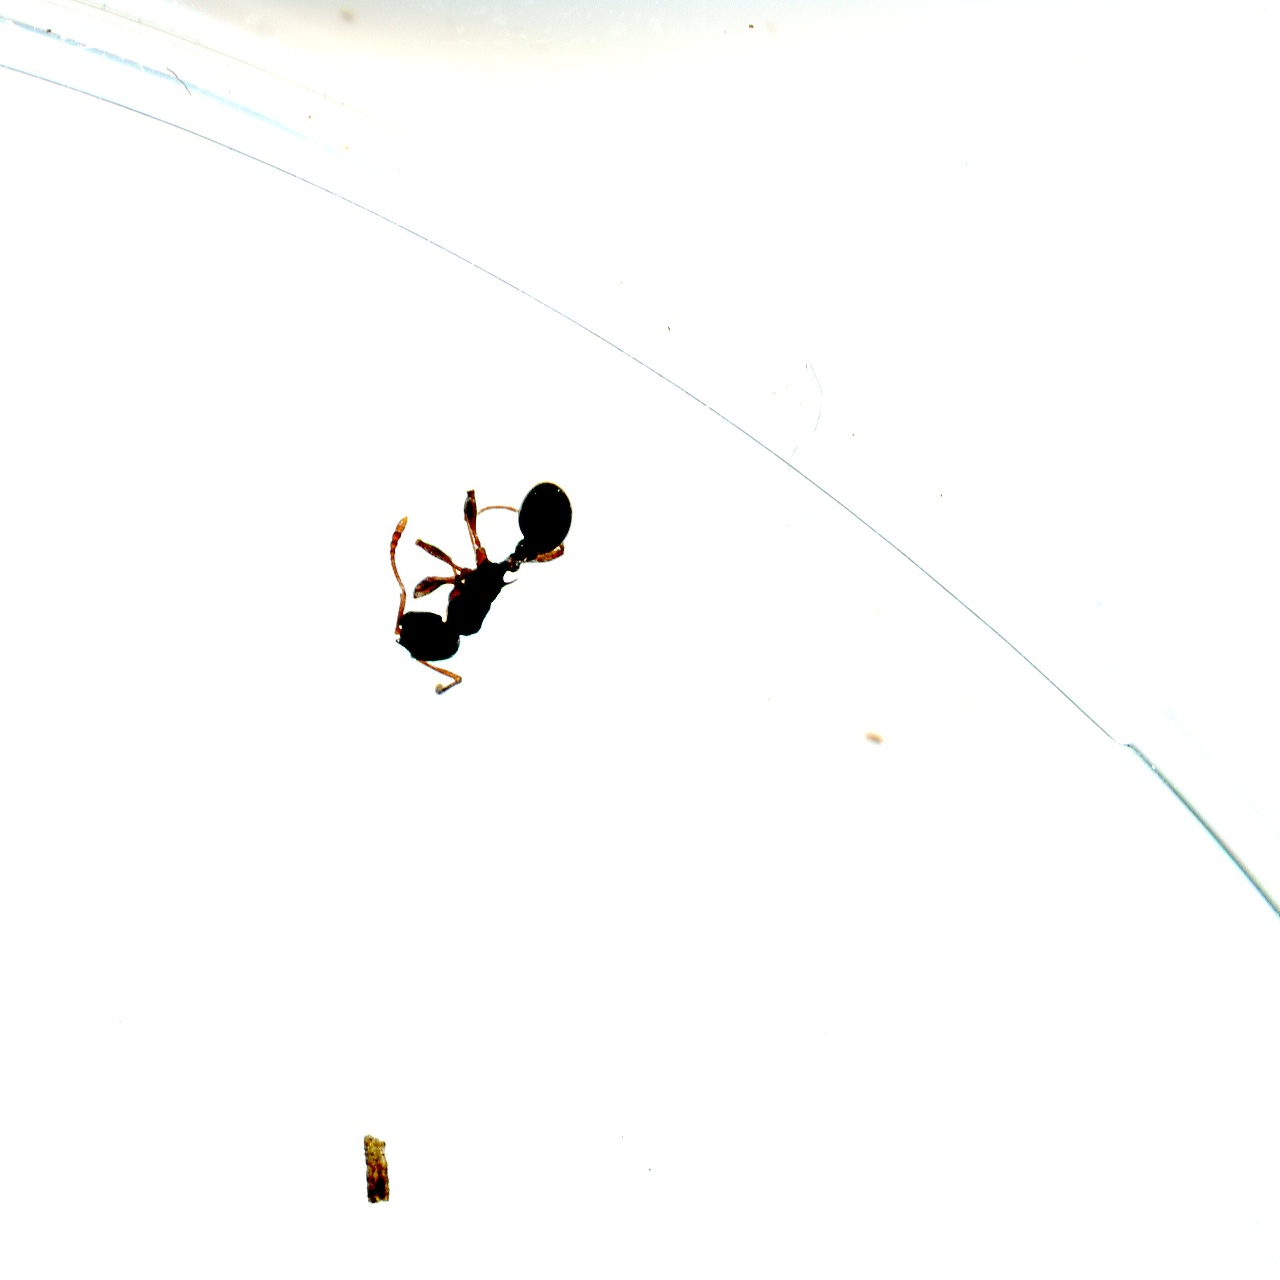arthropod: (370, 464, 598, 713), (750, 1265, 879, 1280)
